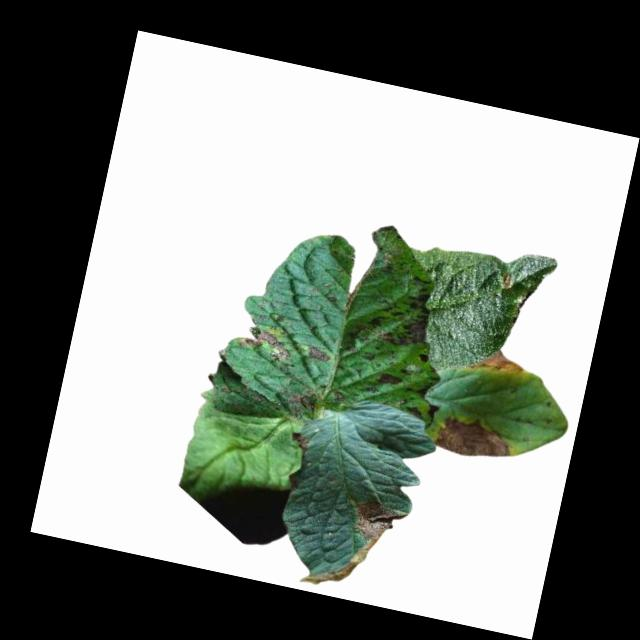Early_blight: (296, 486, 401, 602), (363, 269, 438, 353), (432, 409, 514, 462), (238, 320, 296, 366), (468, 342, 526, 379), (285, 382, 321, 420), (403, 396, 439, 430), (289, 429, 314, 451), (375, 370, 402, 388), (308, 346, 332, 363), (499, 271, 516, 291), (417, 351, 432, 365)
